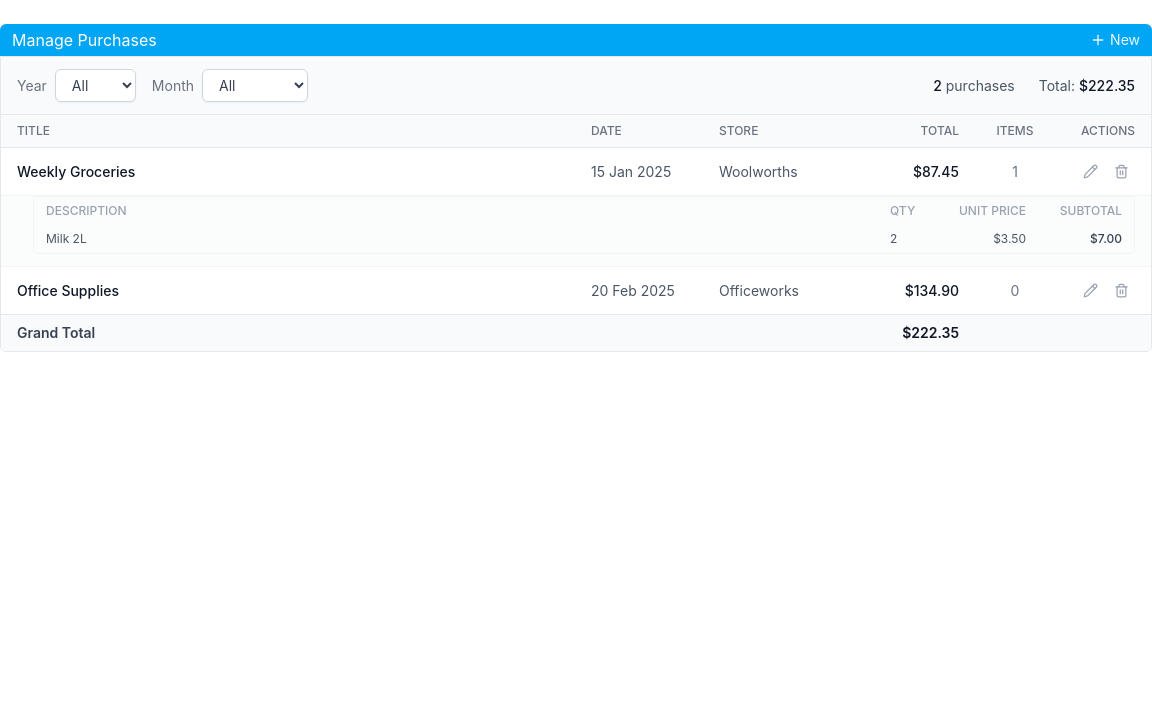
Test case: EditTable › opens the delete confirm modal when delete is clicked
The width and height of the screenshot is (1152, 720).
Expected: the text "Weekly Groceries" is shown, 17,162 -> 135,180
Click the button named "delete weekly groceries".
click(1122, 172)  # box 1108,158 -> 1135,185
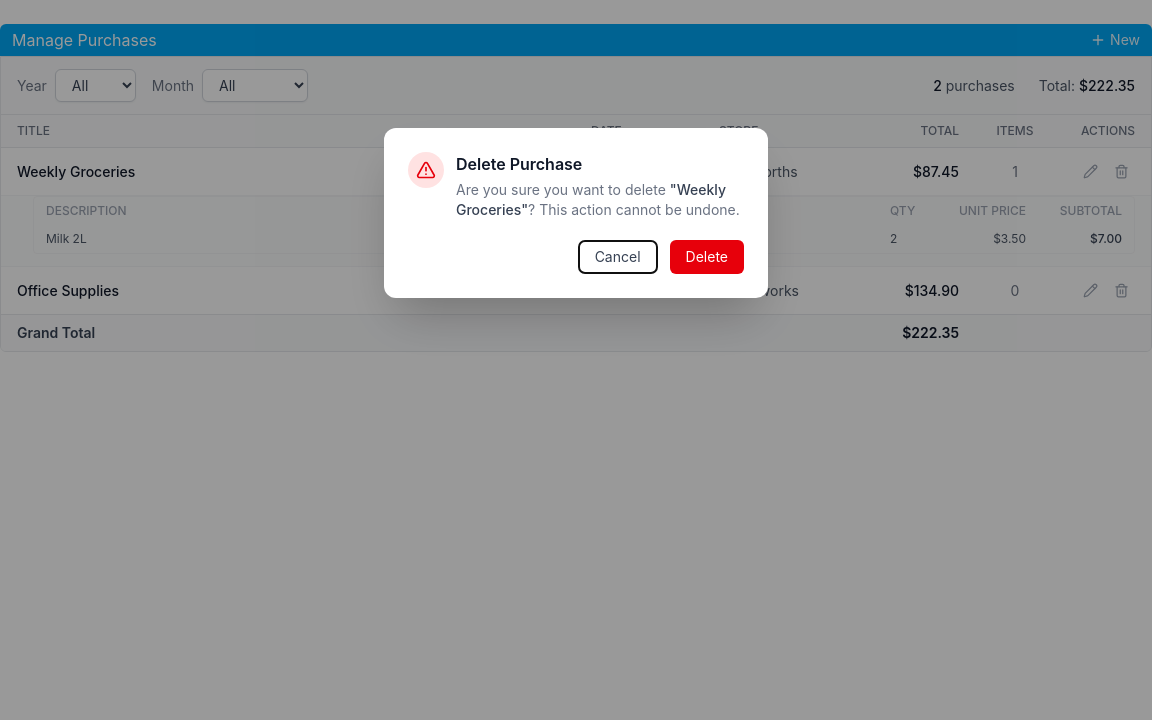
Result: the text "Are you sure" is shown at 456,181 -> 666,198
